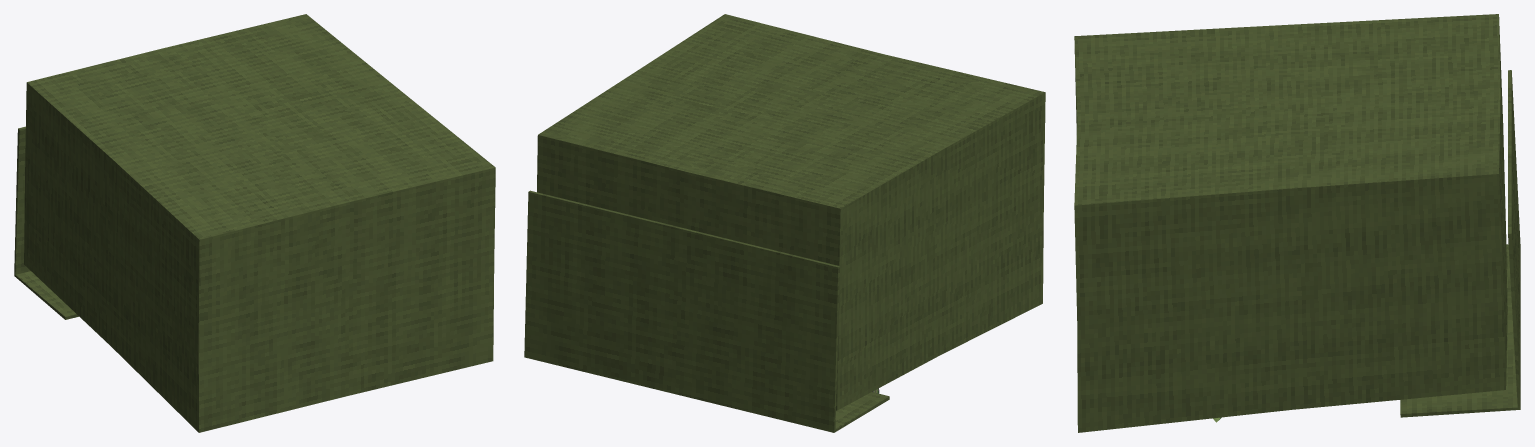
The model's file is pack_ruck_light_foliage.glb.
3 renders of one model, left to right at view 1: azimuth 30°, elevation 25°; view 2: azimuth 150°, elevation 25°; view 3: azimuth 270°, elevation 25°, orthographic. The views are drawn at different scales.
Parts seen in each view (by area): view 1: pack_ruck_light_foliage; view 2: pack_ruck_light_foliage; view 3: pack_ruck_light_foliage.
Part boxes in pixels (x1,y1,x2,y2): pack_ruck_light_foliage: [14, 14, 495, 432]; pack_ruck_light_foliage: [524, 14, 1045, 432]; pack_ruck_light_foliage: [1074, 14, 1520, 432].
Bounding box in the file's own units: 0.3263 × 0.2681 × 0.3631.
Materials: 4 (4 with a texture image).
